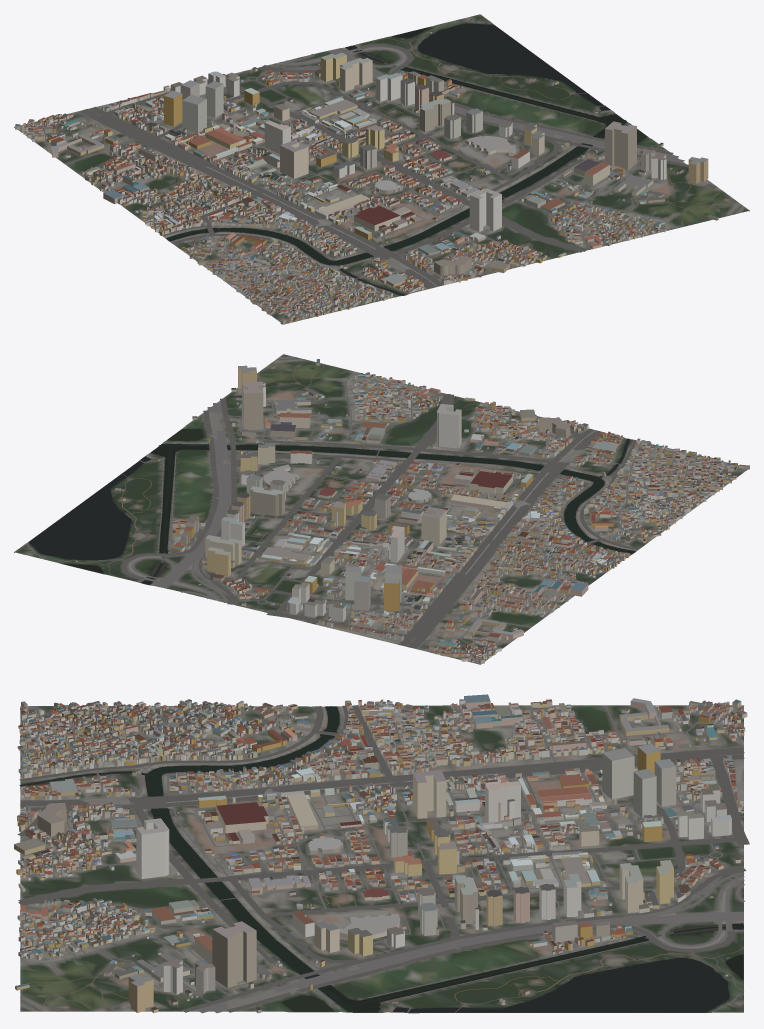
The picture shows the model from 3 angles, top to bottom: view 1: azimuth 30°, elevation 25°; view 2: azimuth 150°, elevation 25°; view 3: azimuth 270°, elevation 25°; orthographic projection. The views are drawn at different scales.
Visible parts, largest first — view 1: buildings, ground, roads, water; view 2: buildings, ground, roads, water; view 3: buildings, ground, roads, water.
Part boxes in pixels (x1,y1,x2,y2): buildings: [15, 31, 718, 324]; ground: [14, 14, 749, 324]; roads: [14, 18, 744, 321]; water: [166, 23, 647, 295]; buildings: [76, 359, 749, 663]; ground: [14, 354, 747, 664]; roads: [26, 357, 744, 664]; water: [28, 429, 635, 584]; buildings: [14, 694, 747, 1013]; ground: [20, 705, 743, 1013]; roads: [17, 705, 749, 1013]; water: [19, 706, 743, 1012].
Bounding box in the file's own units: 1428 × 112 × 1426.
